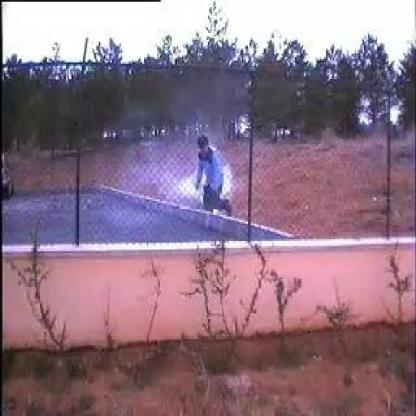-: (148, 164, 204, 204)
